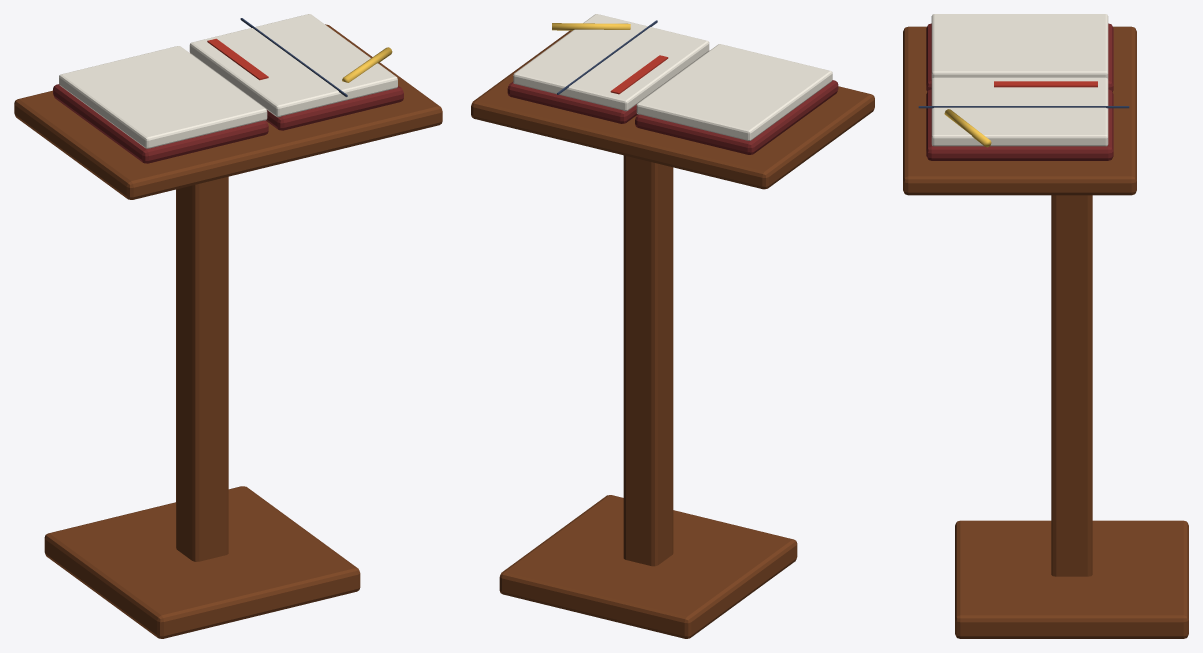
File: agenda.glb
The picture shows the model from 3 angles, left to right: view 1: azimuth 30°, elevation 25°; view 2: azimuth 150°, elevation 25°; view 3: azimuth 270°, elevation 25°; orthographic projection. The views are drawn at different scales.
Visible parts, largest first — view 1: Cube.013, Cube.012, Cube.011, Cube.002, Cube.003, Cube, Cube.001; view 2: Cube.013, Cube.012, Cube.011, Cube.002, Cube.003, Cube, Cube.001, Cylinder; view 3: Cube.013, Cube.012, Cube.011, Cube.002, Cube.003, Cube.001, Cube, Cube.004, Cylinder.
Boxes of the visible parts, box(x1,y1,x2,y2) form: Cube.013: box(44, 486, 360, 638); Cube.012: box(176, 176, 228, 561); Cube.011: box(14, 24, 442, 199); Cube.002: box(59, 46, 267, 148); Cube.003: box(189, 14, 397, 117); Cube: box(53, 84, 268, 163); Cube.001: box(266, 85, 403, 130); Cube.013: box(499, 495, 797, 638); Cube.012: box(623, 155, 673, 566); Cube.011: box(471, 30, 874, 189); Cube.002: box(636, 44, 832, 140); Cube.003: box(513, 14, 709, 111); Cube: box(635, 80, 838, 154); Cube.001: box(507, 81, 637, 123); Cylinder: box(552, 23, 630, 30); Cube.013: box(955, 520, 1188, 638); Cube.012: box(1051, 195, 1092, 576); Cube.011: box(903, 26, 1136, 195); Cube.002: box(931, 14, 1108, 79); Cube.003: box(931, 77, 1108, 146); Cube.001: box(926, 89, 1113, 160); Cube: box(926, 23, 1113, 91); Cube.004: box(994, 81, 1097, 87); Cylinder: box(944, 109, 991, 147).
Bounding box in the file's own units: 0.7 × 1.11 × 0.55.
